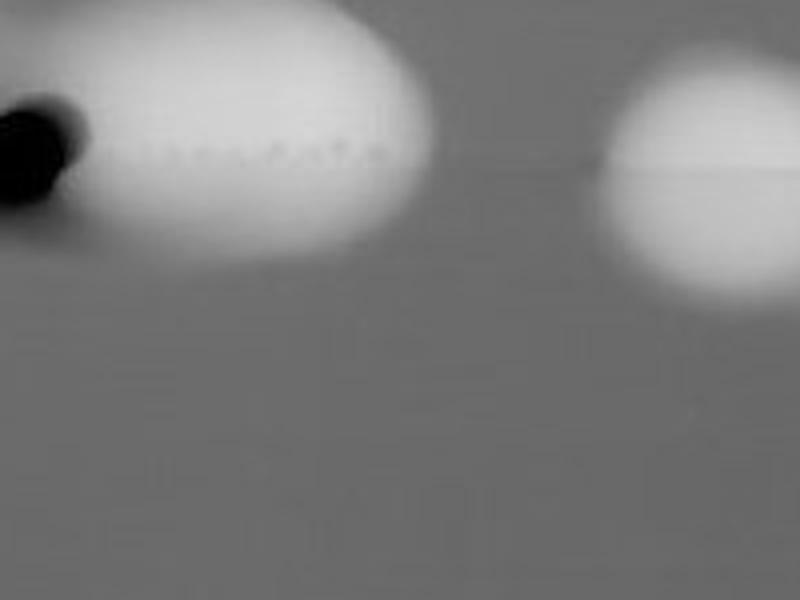defect: (4, 109, 72, 218)
